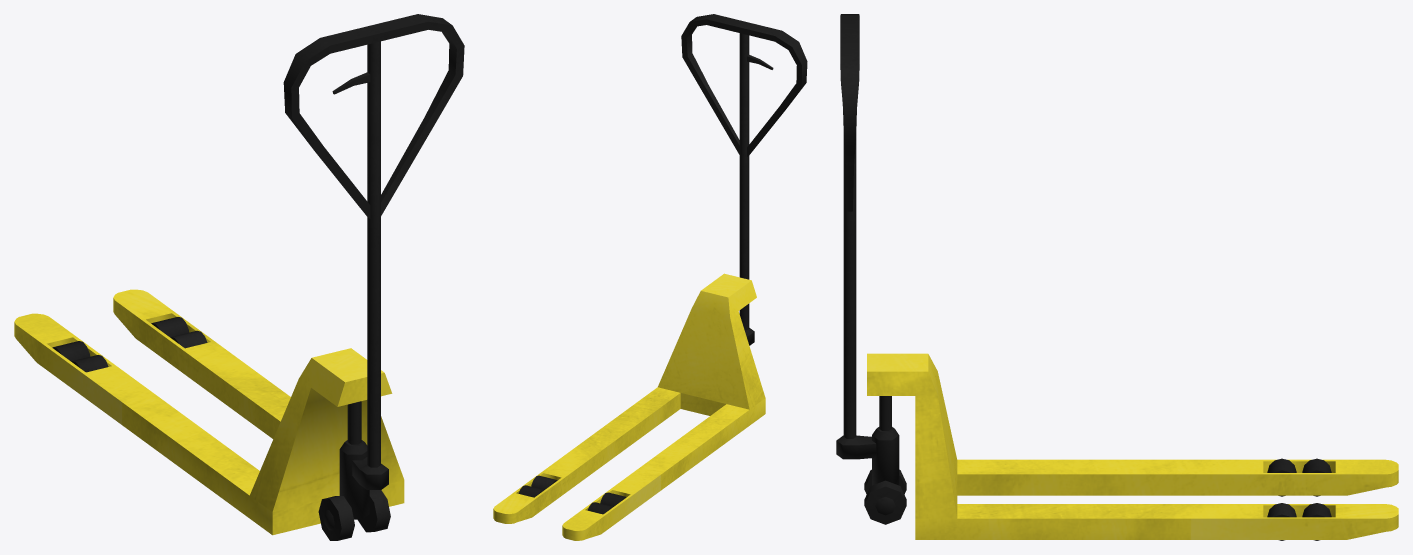
Rendered from forklift.fbx.
The picture shows the model from 3 angles, left to right: view 1: azimuth 30°, elevation 25°; view 2: azimuth 150°, elevation 25°; view 3: azimuth 270°, elevation 25°; orthographic projection. The views are drawn at different scales.
Parts seen in each view (by area): view 1: forklift; view 2: forklift; view 3: forklift.
Part boxes in pixels (<box>): forklift: <box>14,14,464,540</box>; forklift: <box>493,14,807,540</box>; forklift: <box>836,14,1398,540</box>.
Size of the model in its own units: 0.735 by 2.11 by 2.25.
